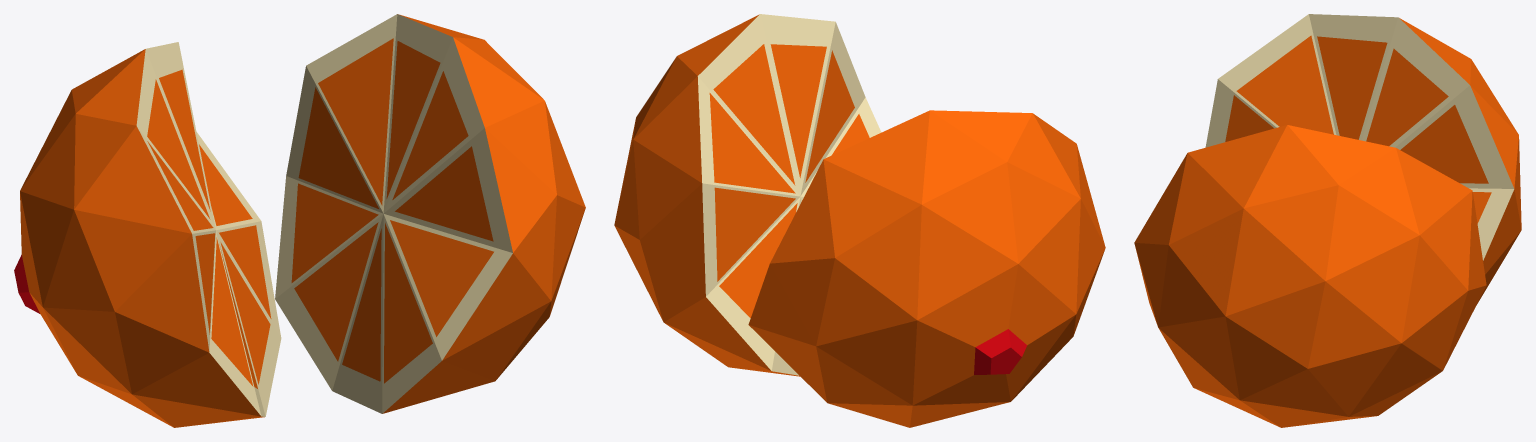
File: orange_cut.fbx
The picture shows the model from 3 angles, left to right: view 1: azimuth 30°, elevation 25°; view 2: azimuth 150°, elevation 25°; view 3: azimuth 270°, elevation 25°; orthographic projection. The views are drawn at different scales.
Parts seen in each view (by area): view 1: orange_cut; view 2: orange_cut; view 3: orange_cut.
Boxes of the visible parts, x1,y1,x2,y2 form: orange_cut: (14,14,585,427); orange_cut: (614,14,1105,427); orange_cut: (1134,14,1521,427).
Bounding box in the file's own units: 209 × 144 × 163.
